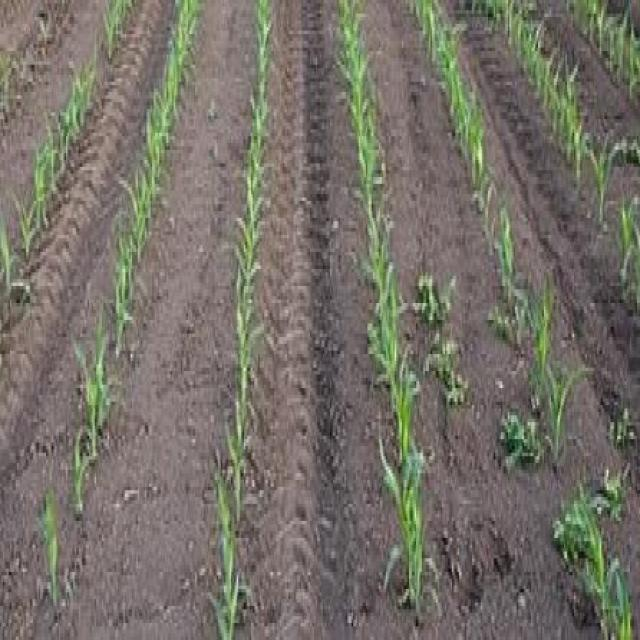row: (362, 0, 602, 640), (59, 0, 256, 640), (442, 0, 640, 583), (0, 0, 179, 640), (246, 0, 410, 640), (0, 0, 112, 256), (531, 0, 640, 212), (1, 0, 45, 67)
